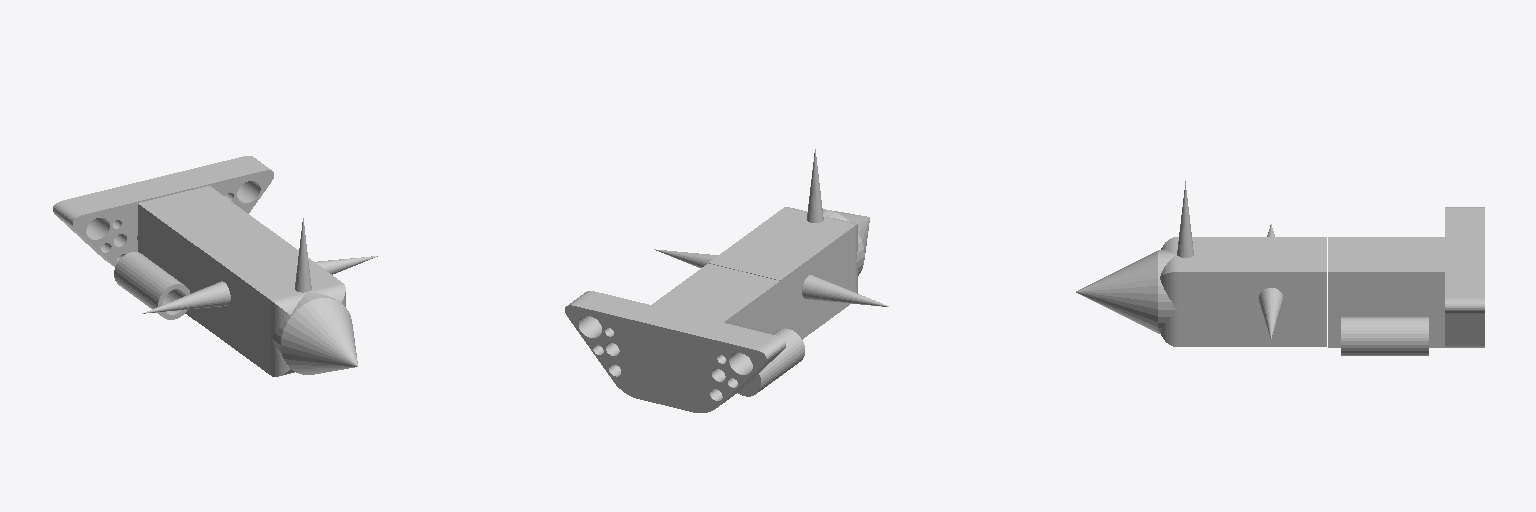
File: Capi-high.obj
3 renders of one model, left to right at view 1: azimuth 30°, elevation 25°; view 2: azimuth 150°, elevation 25°; view 3: azimuth 270°, elevation 25°, orthographic.
Visible parts, largest first — view 1: Cuerpo.Medio_Cube.002, Motores_Cube, Cuerpo.Atras_Cube.004, Cone, Cuerpo.Punta_Cube.001, Canones_Cube.003, Pincho.Arriba_Cone.001; view 2: Motores_Cube, Cuerpo.Medio_Cube.002, Cuerpo.Atras_Cube.004, Cuerpo.Punta_Cube.001, Canones_Cube.003, Cone, Pincho.Arriba_Cone.001; view 3: Cuerpo.Medio_Cube.002, Cuerpo.Atras_Cube.004, Motores_Cube, Cone, Cuerpo.Punta_Cube.001, Canones_Cube.003, Pincho.Arriba_Cone.001.
Part boxes in pixels (bbox=[...]): Cuerpo.Medio_Cube.002: bbox=[142, 228, 377, 363]; Motores_Cube: bbox=[53, 156, 273, 266]; Cuerpo.Atras_Cube.004: bbox=[137, 186, 266, 320]; Cone: bbox=[271, 292, 357, 374]; Cuerpo.Punta_Cube.001: bbox=[256, 272, 345, 376]; Canones_Cube.003: bbox=[114, 252, 189, 319]; Pincho.Arriba_Cone.001: bbox=[295, 218, 311, 292]; Motores_Cube: bbox=[565, 291, 785, 412]; Cuerpo.Medio_Cube.002: bbox=[654, 219, 888, 339]; Cuerpo.Atras_Cube.004: bbox=[652, 263, 779, 333]; Cuerpo.Punta_Cube.001: bbox=[769, 207, 857, 311]; Canones_Cube.003: bbox=[738, 328, 804, 396]; Cone: bbox=[823, 209, 869, 275]; Pincho.Arriba_Cone.001: bbox=[807, 149, 823, 222]; Cuerpo.Medio_Cube.002: bbox=[1208, 224, 1326, 346]; Cuerpo.Atras_Cube.004: bbox=[1328, 237, 1444, 347]; Motores_Cube: bbox=[1445, 207, 1484, 347]; Cone: bbox=[1076, 250, 1176, 333]; Cuerpo.Punta_Cube.001: bbox=[1160, 237, 1207, 346]; Canones_Cube.003: bbox=[1341, 317, 1428, 355]; Pincho.Arriba_Cone.001: bbox=[1177, 181, 1193, 257].
Size of the model in its own units: 6.62 by 3.97 by 9.84.